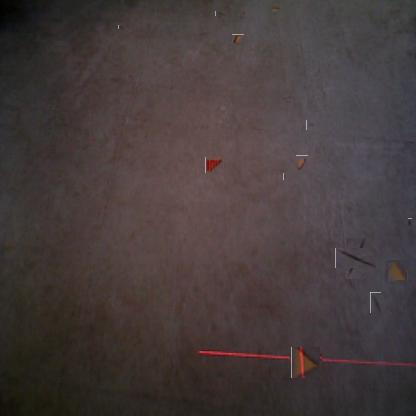dirty: (291, 347, 321, 378), (387, 260, 407, 282), (205, 157, 224, 173), (296, 155, 308, 170), (233, 34, 244, 46), (270, 4, 280, 12)
mark: (341, 243, 371, 274), (370, 292, 381, 313), (306, 120, 315, 130), (217, 9, 225, 18), (283, 94, 291, 102), (304, 84, 310, 92), (408, 218, 412, 229), (119, 25, 125, 30), (283, 172, 286, 180)
